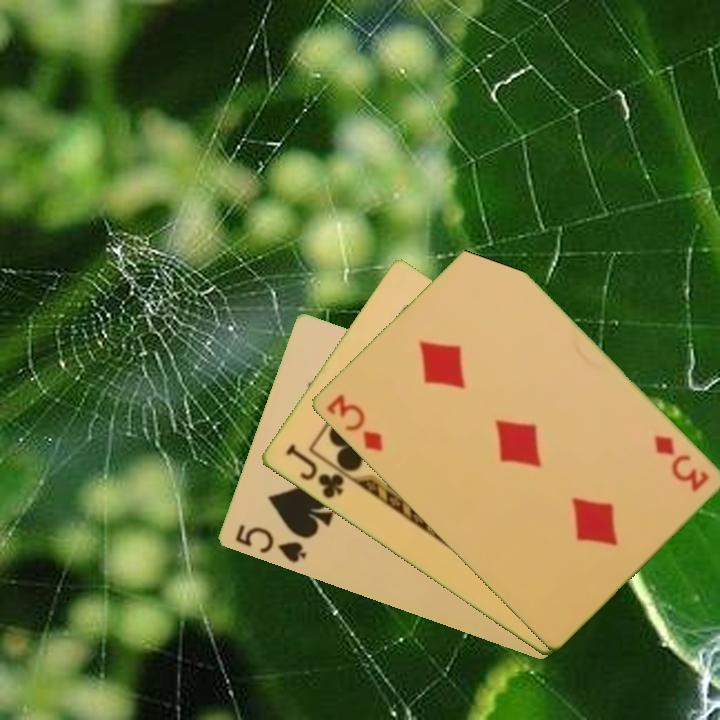3d: (322, 390, 385, 455), (649, 431, 712, 495)
5s: (231, 521, 309, 566)
Jc: (281, 440, 347, 502)
